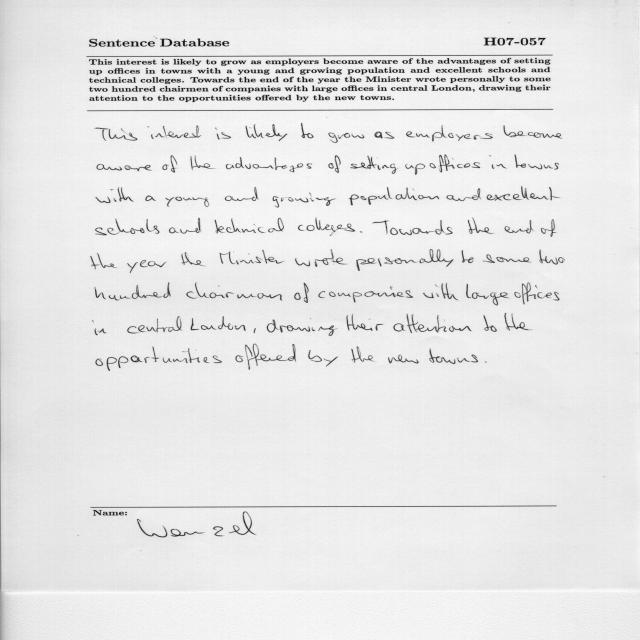word: (96, 347, 222, 371), (356, 249, 454, 271), (186, 283, 282, 301), (349, 187, 439, 205), (235, 344, 296, 370), (318, 287, 413, 303), (394, 314, 472, 333), (406, 125, 493, 142), (95, 283, 171, 301), (226, 157, 312, 172), (267, 318, 337, 336), (372, 220, 453, 235), (96, 219, 160, 236), (215, 218, 284, 233), (298, 218, 355, 236), (487, 187, 560, 201), (515, 283, 560, 305), (127, 316, 182, 334), (220, 250, 284, 265), (273, 193, 336, 208), (295, 249, 347, 267), (466, 284, 510, 305), (430, 155, 480, 173), (351, 156, 398, 174), (504, 125, 563, 139), (191, 316, 246, 331), (429, 348, 478, 364), (246, 124, 288, 141), (147, 126, 201, 139), (514, 155, 559, 170), (347, 314, 384, 331), (96, 187, 134, 203), (423, 283, 458, 300), (95, 128, 137, 141), (504, 313, 533, 331), (127, 260, 167, 273), (169, 218, 201, 234), (308, 350, 338, 367), (225, 187, 259, 201), (446, 188, 481, 201), (91, 253, 117, 270), (483, 254, 531, 263), (166, 197, 209, 207), (468, 217, 493, 234), (351, 346, 374, 363), (539, 250, 565, 265), (97, 164, 151, 171), (505, 220, 534, 233), (329, 133, 365, 143), (190, 156, 214, 170), (182, 252, 206, 266), (294, 283, 309, 303), (162, 155, 177, 173), (541, 219, 556, 237), (489, 155, 507, 169), (388, 355, 419, 363), (483, 315, 497, 332), (328, 155, 341, 173), (405, 164, 425, 175), (93, 320, 107, 335), (301, 124, 314, 139), (215, 128, 231, 140), (462, 250, 474, 263), (375, 132, 394, 139), (145, 195, 156, 201), (254, 328, 256, 333), (360, 231, 362, 233), (485, 361, 487, 363)
